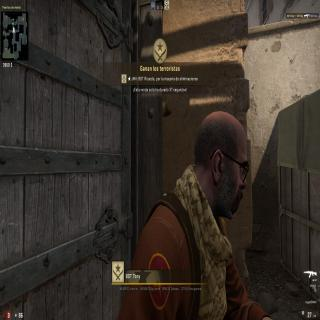T-Head: (190, 102, 250, 224)
